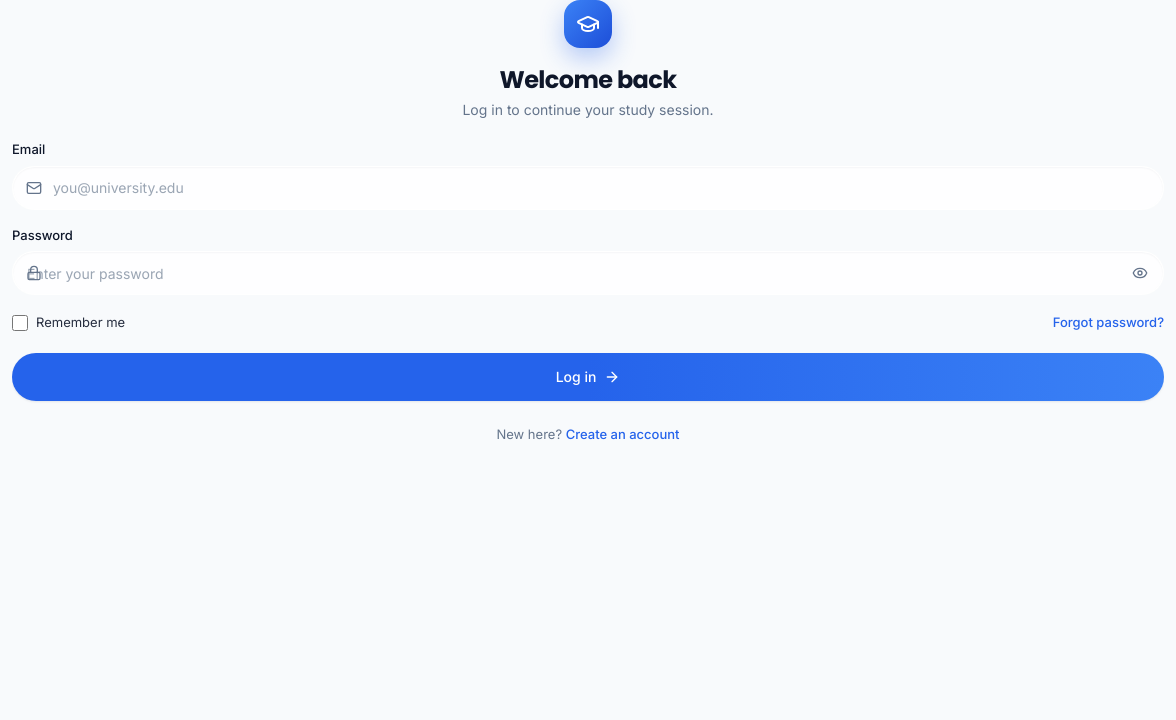
Scenario: LoginPage (T-UI-01, T-UI-02, T-UI-03, T-UI-06) › shows server errors in role="alert"
Type "ama@uni.edu" into the field labelled "Email".
click(588, 188); type("ama@uni.edu")  # box [12,166,1164,210]
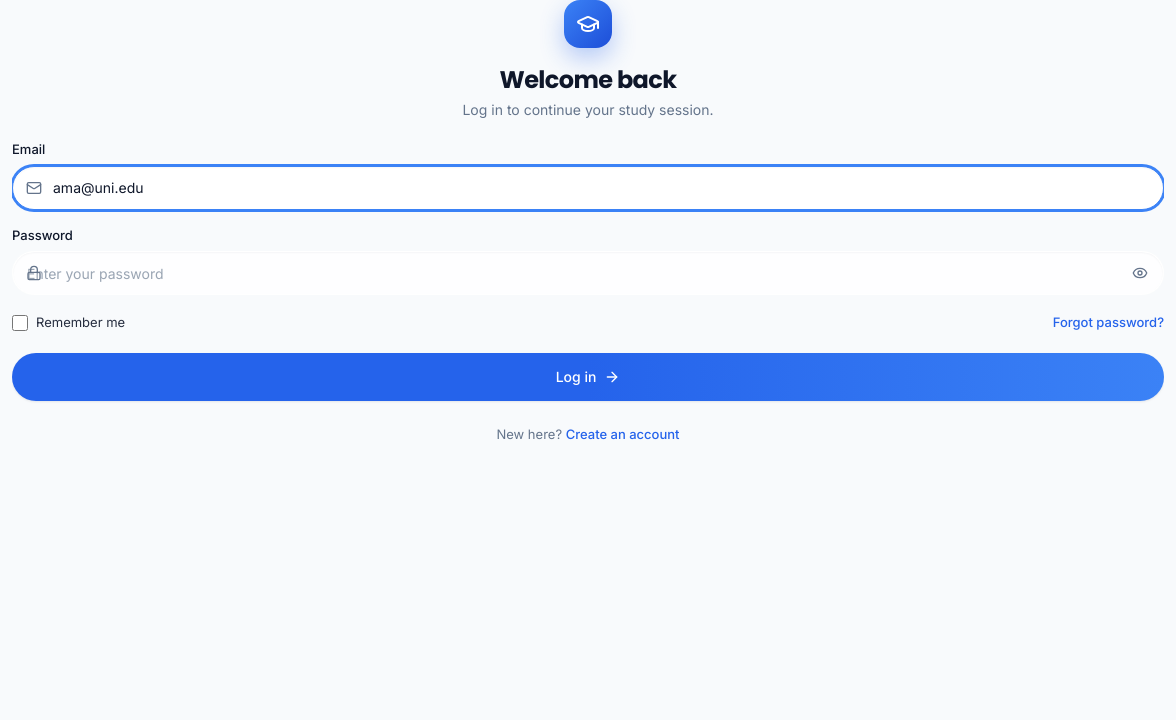
Type "WrongPass1" into the password field labelled "Password".
click(588, 273); type("WrongPass1")  # box [12,251,1164,295]
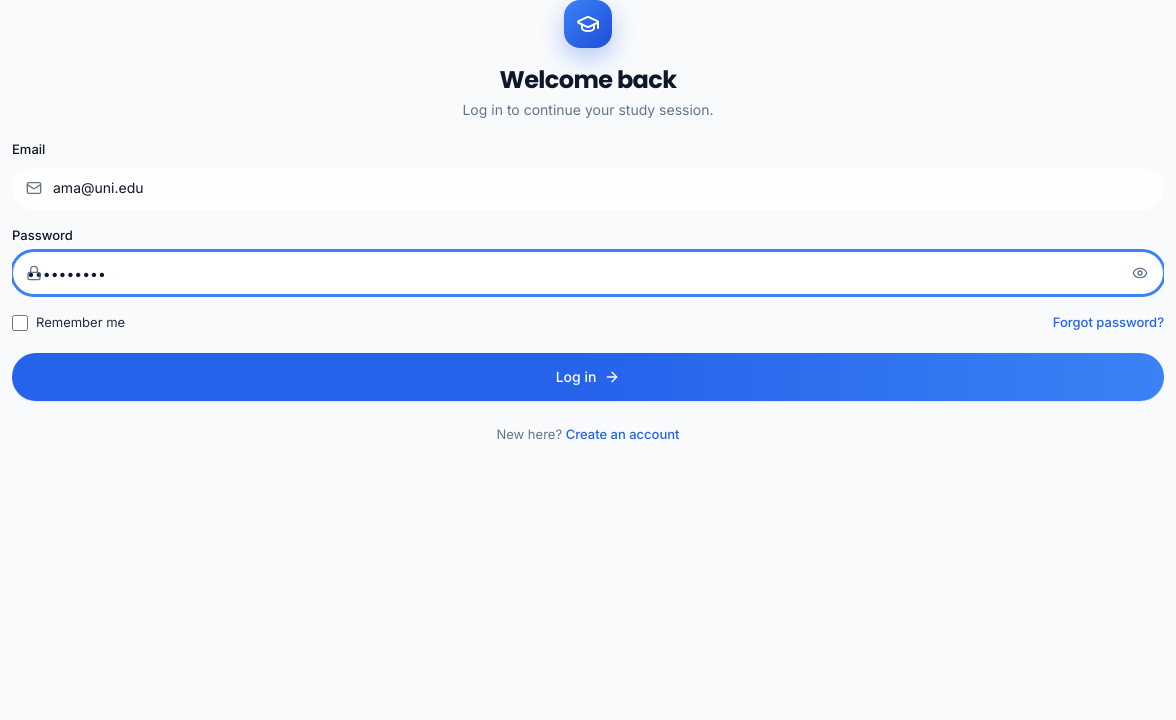
Click the button "Log in".
click(588, 376)  # box [12,352,1164,400]
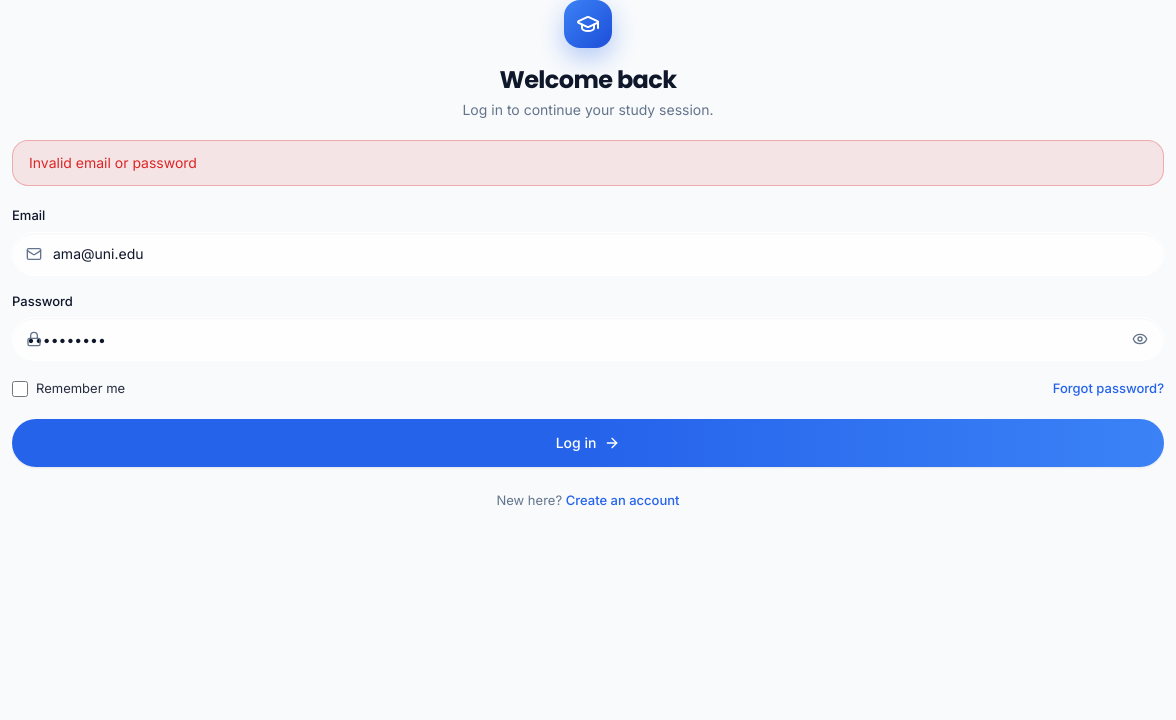
Check: the message reads "Invalid email or password", box [29,154,197,171]
